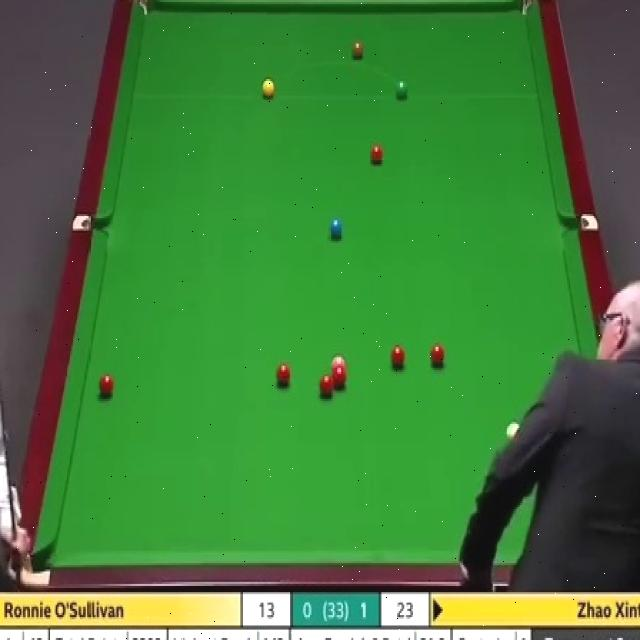blue-ball: (328, 216, 342, 239)
brown-ball: (351, 40, 364, 61)
green-ball: (394, 78, 408, 100)
pink-ball: (330, 356, 347, 370)
red-ball: (391, 343, 406, 372), (99, 372, 115, 399), (330, 367, 348, 389), (369, 143, 386, 166), (275, 364, 291, 386), (430, 343, 444, 368), (319, 376, 335, 396)
white-ball: (504, 418, 522, 443)
yellow-ball: (261, 77, 275, 98)
